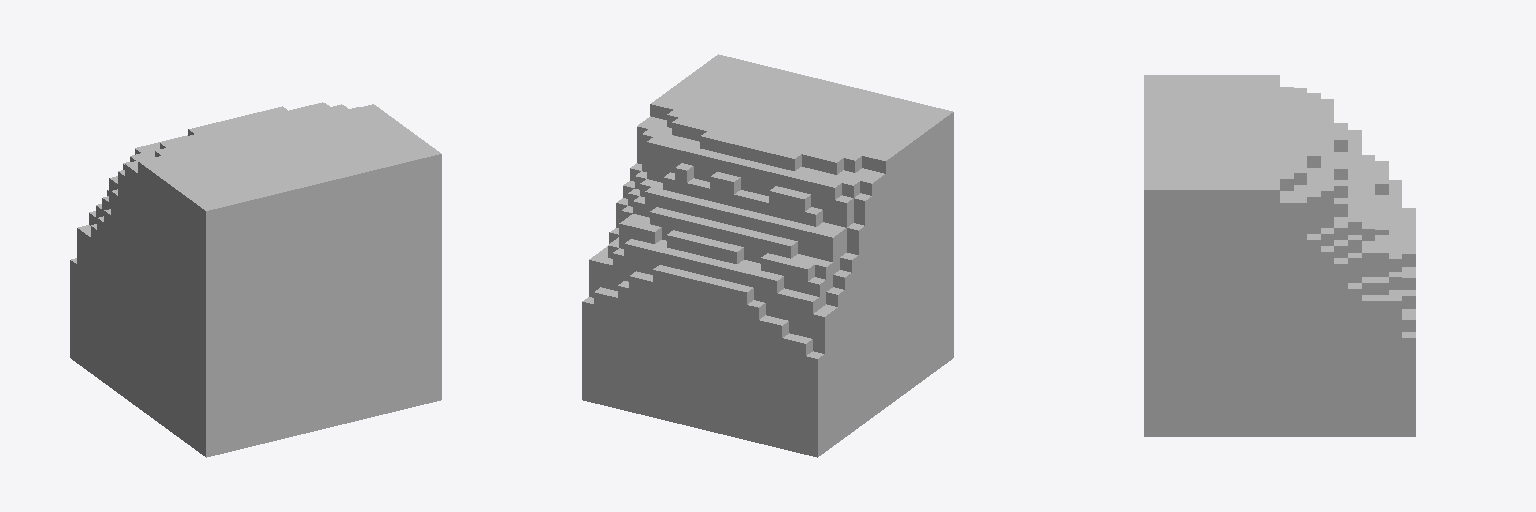
File: ruin_damagedsegment.obj
3 renders of one model, left to right at view 1: azimuth 30°, elevation 25°; view 2: azimuth 150°, elevation 25°; view 3: azimuth 270°, elevation 25°, orthographic.
Visible parts, largest first — view 1: ruin_damagedsegment; view 2: ruin_damagedsegment; view 3: ruin_damagedsegment.
Part boxes in pixels (x1,y1,x2,y2): ruin_damagedsegment: (70, 102, 441, 457); ruin_damagedsegment: (582, 54, 953, 457); ruin_damagedsegment: (1144, 75, 1415, 436).
Bounding box in the file's own units: 20 × 20 × 20.